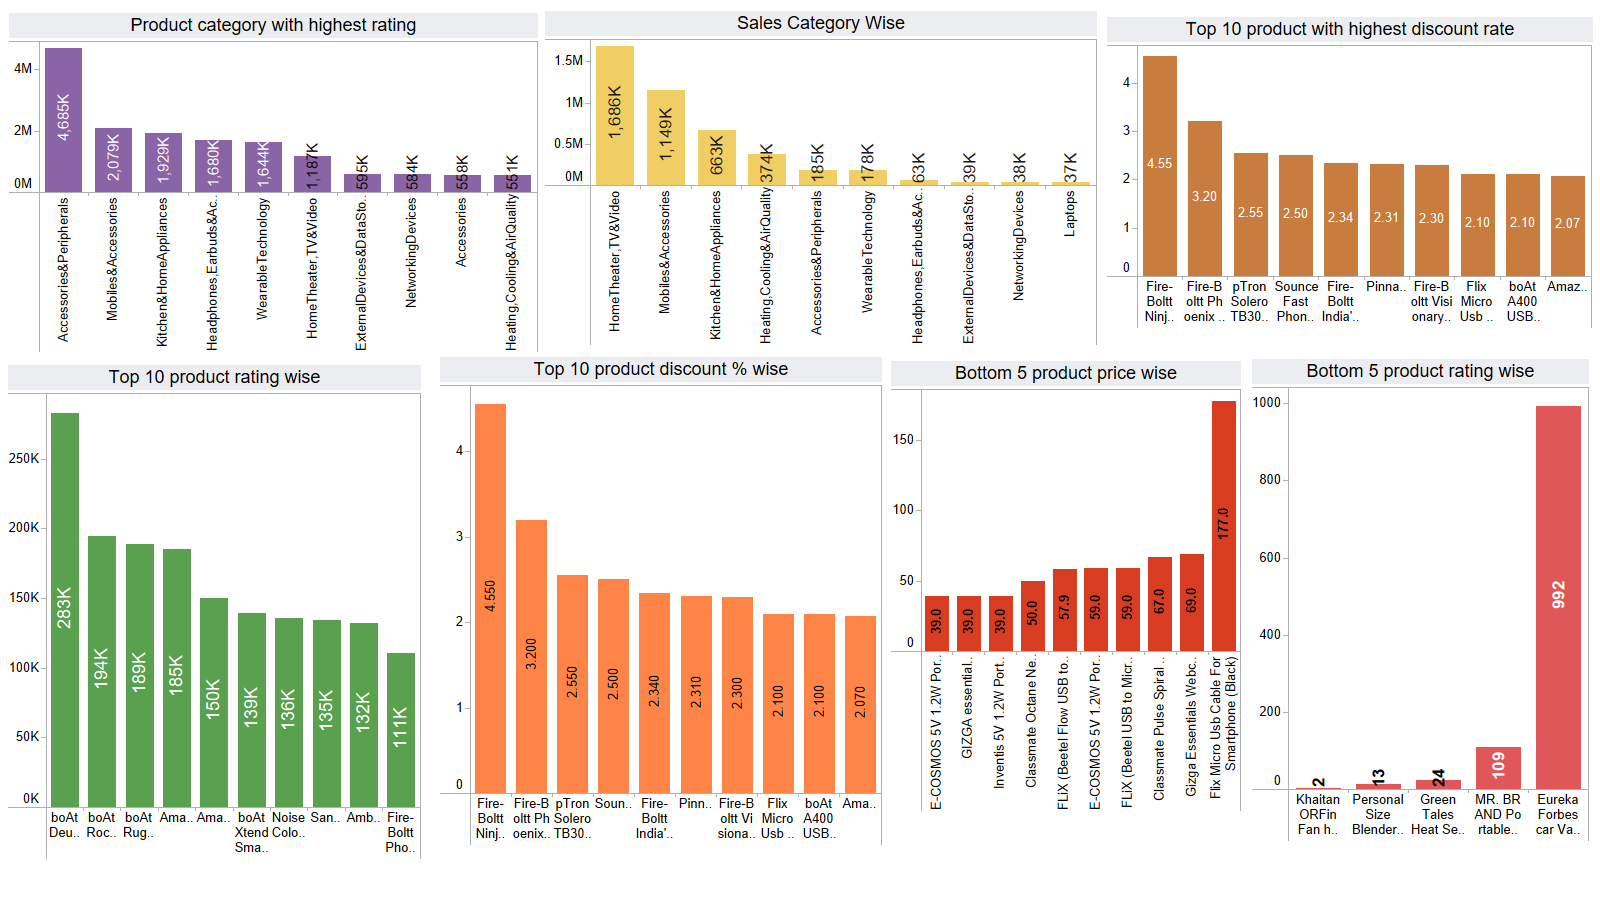

What the dashboard file says about the page in this screenshot:
{"tool":"tableau","page":{"name":"Dashboard 1","canvas":[1600,900],"ordinal":0},"visuals":[{"type":"worksheet","title":"Sales Category Wise","mark":"Automatic","rows":["discounted_price"],"cols":["category - Split 2"],"box":[545,11,552,335]},{"type":"worksheet","title":"Product category with highest rating","mark":"Automatic","rows":["rating_count"],"cols":["category - Split 2"],"box":[9,13,529,340]},{"type":"worksheet","title":"Top 10 product with highest discount rate","mark":"Automatic","rows":["discount_percentage"],"cols":["product_name"],"box":[1107,17,486,312]},{"type":"worksheet","title":"Top 10 product discount % wise","mark":"Automatic","rows":["discount_percentage"],"cols":["product_name"],"box":[440,357,442,489]},{"type":"worksheet","title":"Bottom 5 product rating wise","mark":"Automatic","rows":["rating_count"],"cols":["product_name"],"box":[1252,359,337,483]},{"type":"worksheet","title":"Bottom 5 product price wise","mark":"Automatic","rows":["discounted_price"],"cols":["product_name"],"box":[891,361,350,451]},{"type":"worksheet","title":"Top 10 product rating wise","mark":"Automatic","rows":["rating_count"],"cols":["product_name"],"box":[8,365,413,495]}]}

Visuals, with their boxes in screenshot pixels (x1, y1, x2, y2), scaled from the page's 1600x900 canvas onto the 1600x900 screenshot:
"Sales Category Wise" worksheet: detection(545, 11, 1097, 346)
"Product category with highest rating" worksheet: detection(9, 13, 538, 353)
"Top 10 product with highest discount rate" worksheet: detection(1107, 17, 1593, 329)
"Top 10 product discount % wise" worksheet: detection(440, 357, 882, 846)
"Bottom 5 product rating wise" worksheet: detection(1252, 359, 1589, 842)
"Bottom 5 product price wise" worksheet: detection(891, 361, 1241, 812)
"Top 10 product rating wise" worksheet: detection(8, 365, 421, 860)
